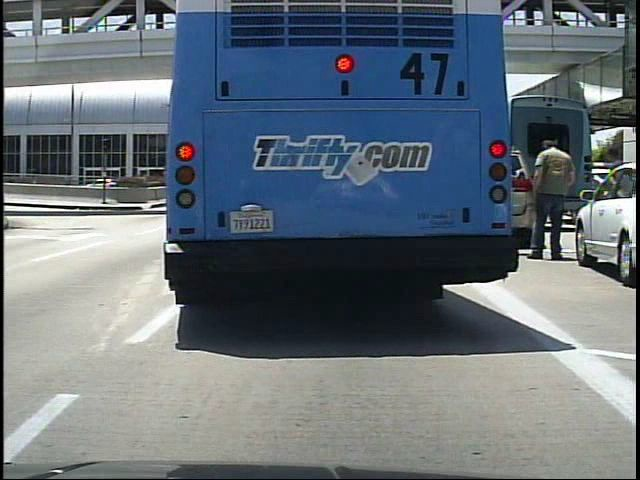person: (531, 135, 578, 266), (603, 145, 631, 252)
